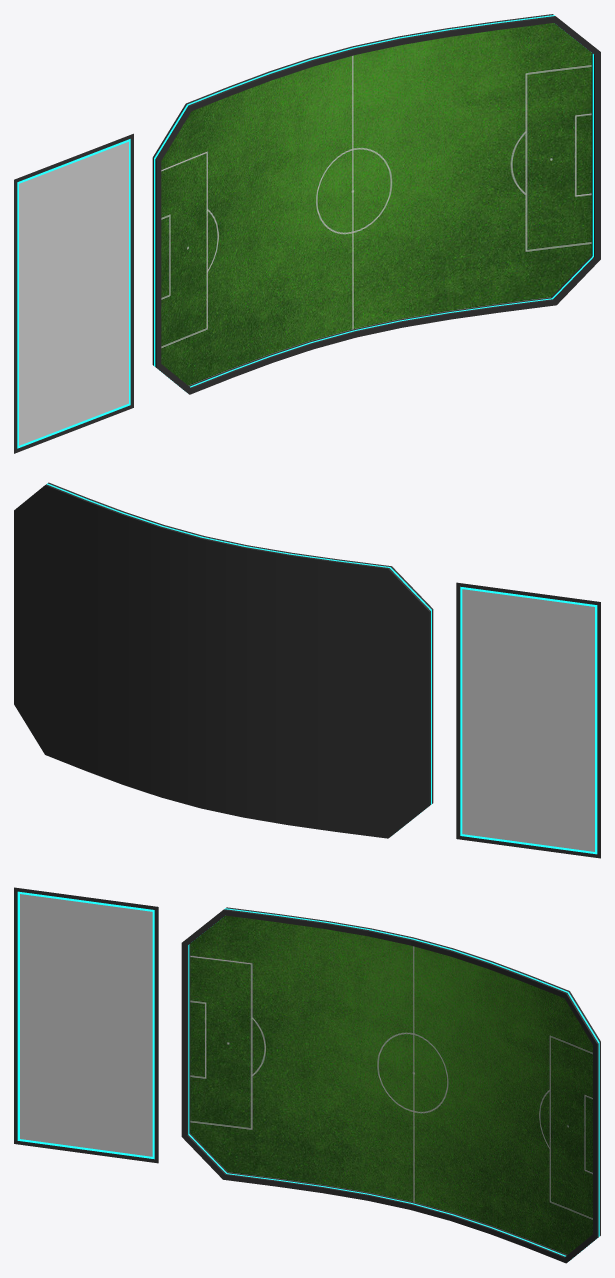
File: Board_Text.fbx
The picture shows the model from 3 angles, top to bottom: view 1: azimuth 30°, elevation 25°; view 2: azimuth 150°, elevation 25°; view 3: azimuth 330°, elevation 25°; orthographic projection. The views are drawn at different scales.
Visible parts, largest first — view 1: Board_Puzzle, Board_Text; view 2: Board_Puzzle, Board_Text; view 3: Board_Puzzle, Board_Text.
Part boxes in pixels (left/top/right/bottom): Board_Puzzle: left=152, top=14, right=600, bottom=394; Board_Text: left=14, top=133, right=133, bottom=453; Board_Puzzle: left=14, top=482, right=433, bottom=838; Board_Text: left=456, top=582, right=600, bottom=858; Board_Puzzle: left=181, top=907, right=600, bottom=1263; Board_Text: left=14, top=887, right=158, bottom=1163.
Bounding box in the file's own units: 439 × 200 × 56.4.
